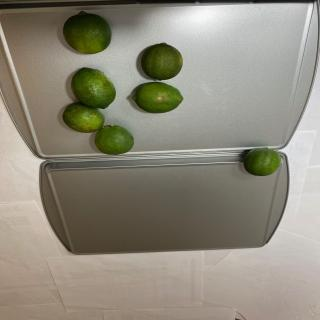Lemon: (62, 10, 112, 54), (71, 67, 116, 109), (141, 42, 183, 81), (132, 82, 183, 114), (62, 102, 105, 133), (94, 125, 134, 155), (243, 147, 282, 176)
